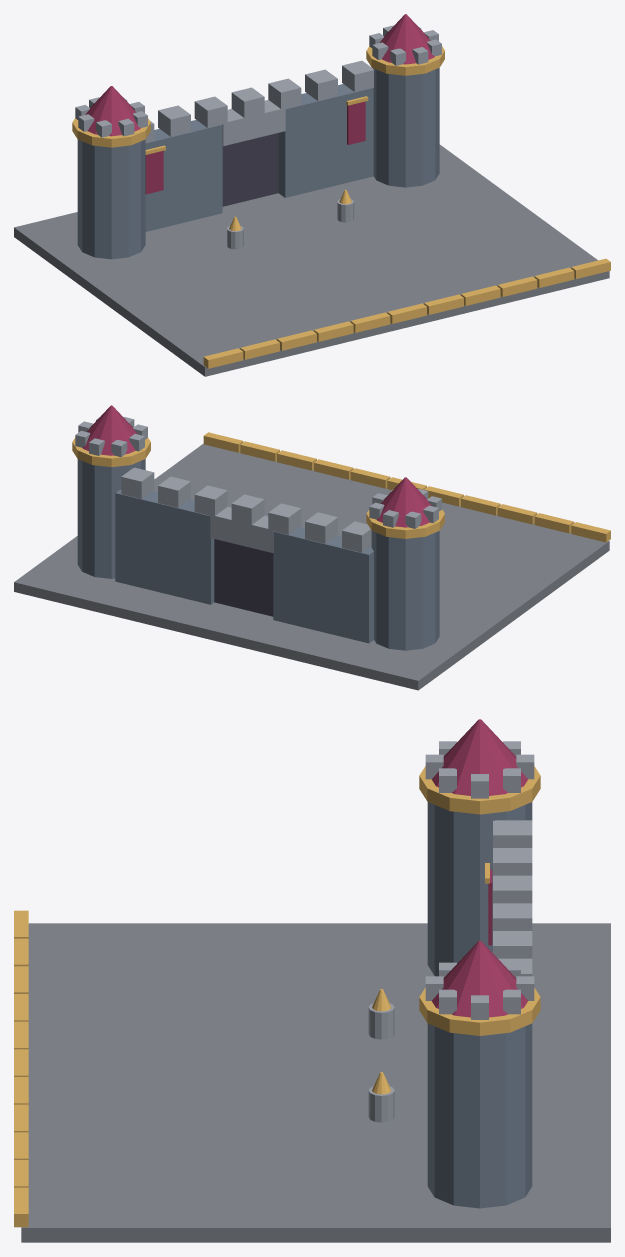
The model's file is SM_Prologue_Castle.fbx.
The picture shows the model from 3 angles, top to bottom: view 1: azimuth 30°, elevation 25°; view 2: azimuth 150°, elevation 25°; view 3: azimuth 270°, elevation 25°; orthographic projection. The views are drawn at different scales.
Visible parts, largest first — view 1: SM_Prologue_Castle; view 2: SM_Prologue_Castle; view 3: SM_Prologue_Castle.
Boxes of the visible parts, <box> form: SM_Prologue_Castle: <box>14,14,610,376</box>; SM_Prologue_Castle: <box>14,405,610,690</box>; SM_Prologue_Castle: <box>14,719,610,1242</box>.
Size of the model in its own units: 2200 by 875 by 1823.
